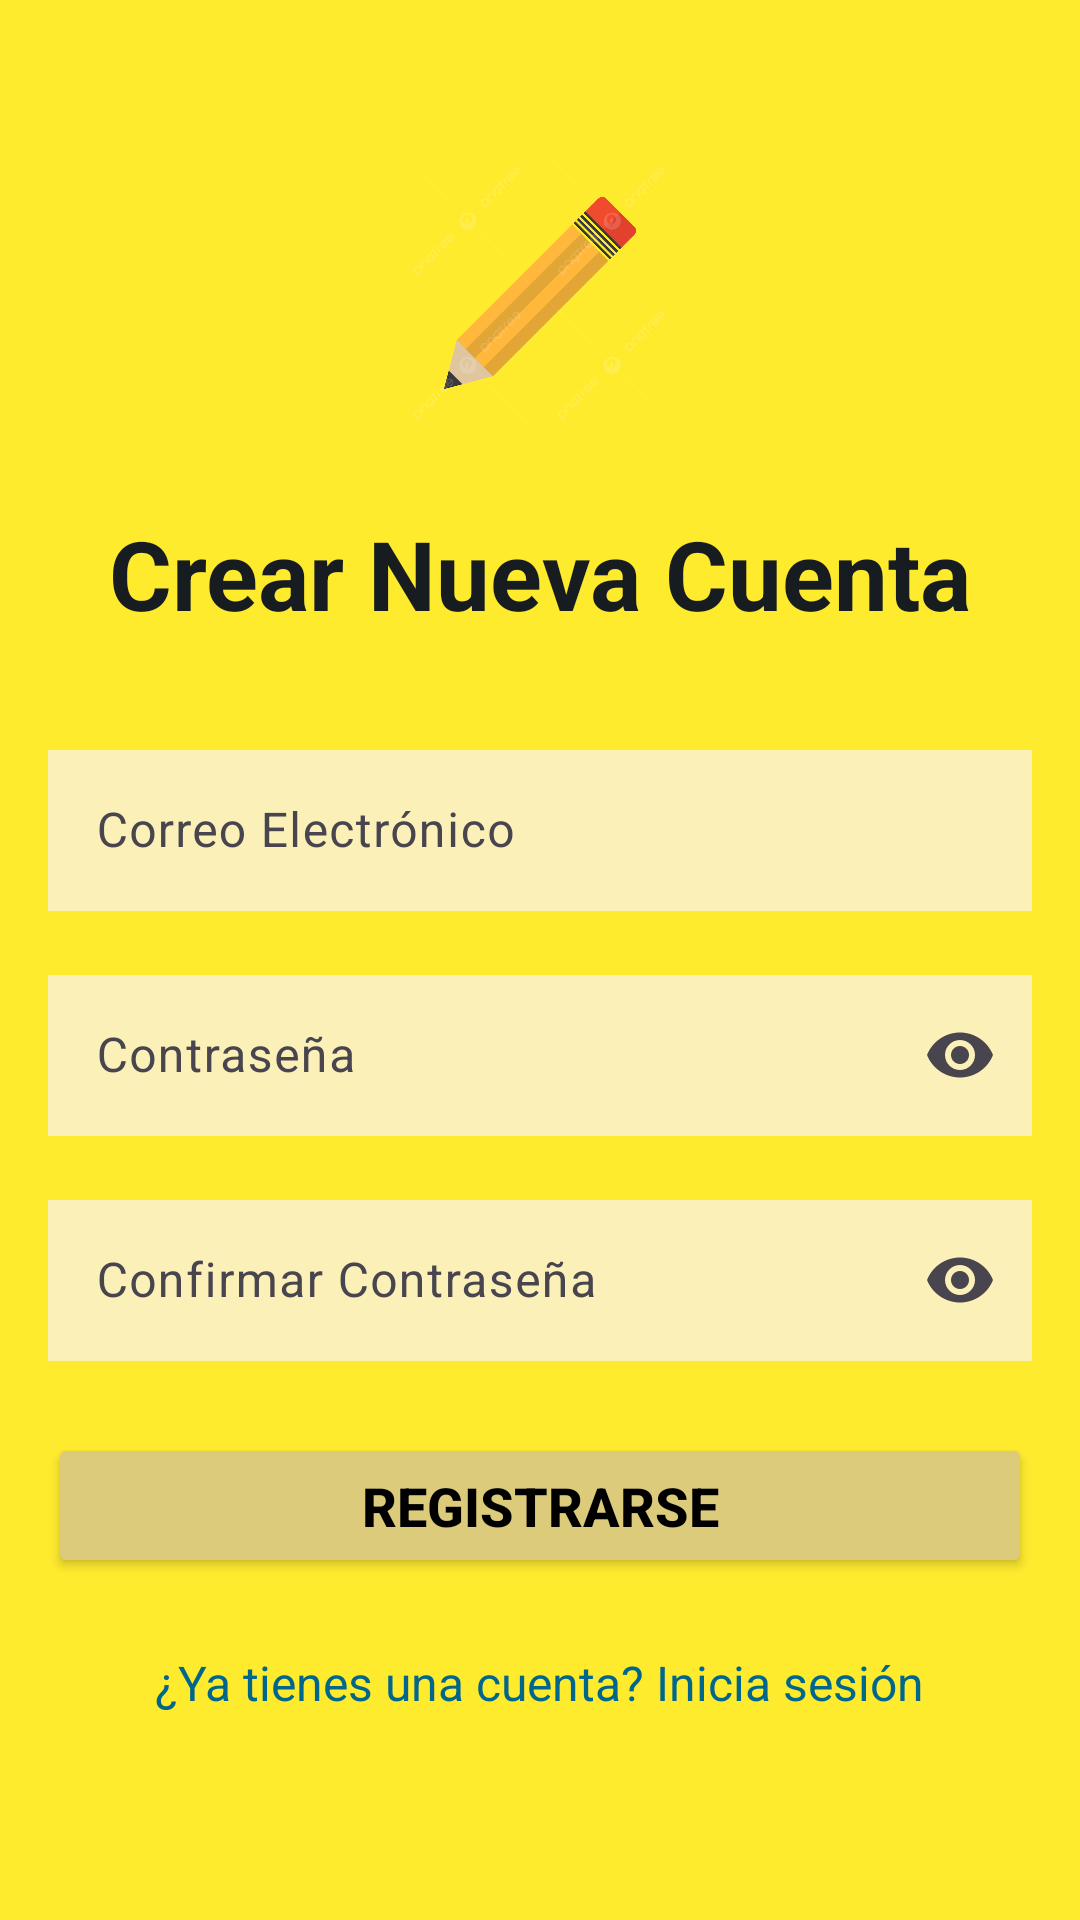

Locate icon controls on the screen. Image size 1080×1920, boxes as bbox(x1, y1, x2, y2).
Ícono de lápiz: bbox(413, 167, 665, 420)
